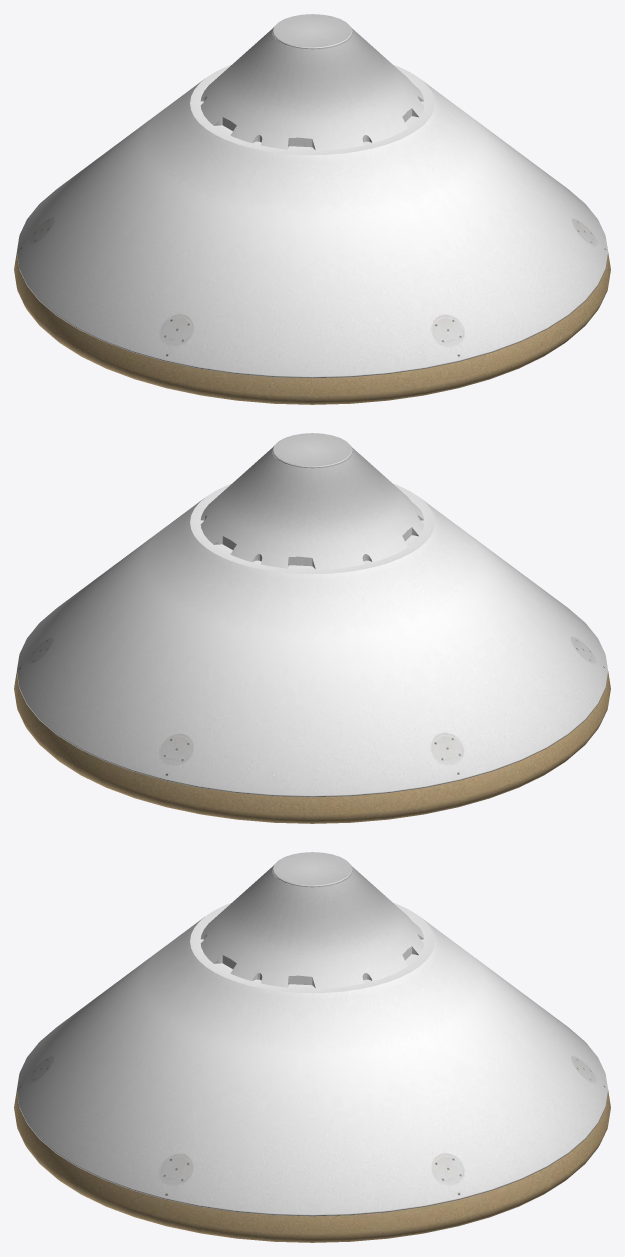
File: phoenix_edl.gltf
The picture shows the model from 3 angles, top to bottom: view 1: azimuth 30°, elevation 25°; view 2: azimuth 150°, elevation 25°; view 3: azimuth 270°, elevation 25°; orthographic projection.
Parts seen in each view (by area): view 1: back_shell, center_, heat_shield; view 2: back_shell, center_, heat_shield; view 3: back_shell, center_, heat_shield.
Boxes of the visible parts, <box> form: back_shell: <box>17,64,607,378</box>; center_: <box>200,14,424,150</box>; heat_shield: <box>14,252,610,404</box>; back_shell: <box>17,483,607,797</box>; center_: <box>200,433,424,569</box>; heat_shield: <box>14,671,610,823</box>; back_shell: <box>17,902,607,1216</box>; center_: <box>200,852,424,988</box>; heat_shield: <box>14,1090,610,1242</box>.
Bounding box in the file's own units: 2.63 × 1.66 × 2.63.
5 materials, 4 textured.
